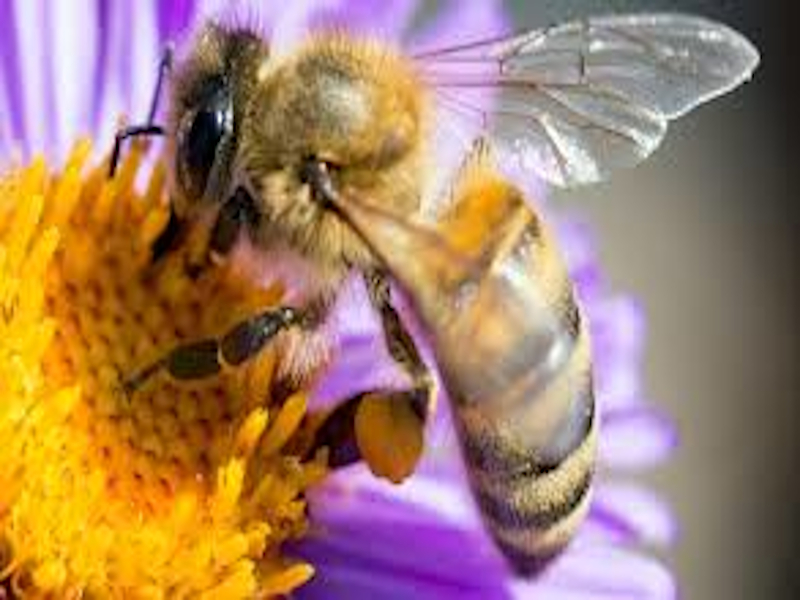abeja: (102, 1, 768, 599)
